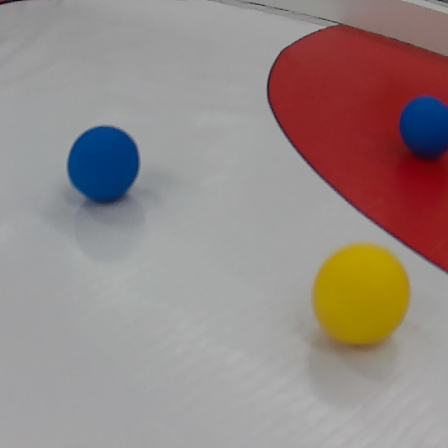blue: (66, 124, 141, 203), (401, 95, 448, 159)
red_base: (266, 17, 446, 270)
yellow: (309, 243, 413, 348)
